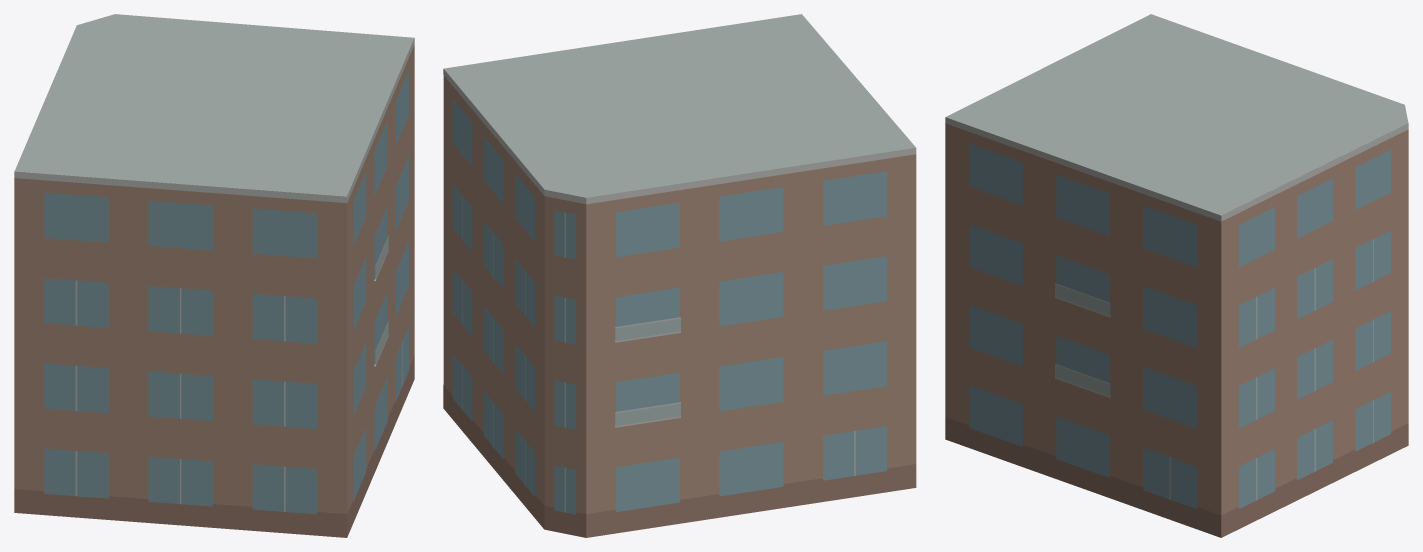
File: survey-upis-32703266.glb
3 renders of one model, left to right at view 1: azimuth 30°, elevation 25°; view 2: azimuth 150°, elevation 25°; view 3: azimuth 270°, elevation 25°, orthographic. The views are drawn at different scales.
Parts seen in each view (by area): view 1: survey-upis-32703266.tmp; view 2: survey-upis-32703266.tmp; view 3: survey-upis-32703266.tmp.
Part boxes in pixels (bbox=[...]): survey-upis-32703266.tmp: bbox=[14, 14, 414, 537]; survey-upis-32703266.tmp: bbox=[443, 14, 916, 537]; survey-upis-32703266.tmp: bbox=[945, 14, 1408, 537].
Bounding box in the file's own units: 17.31 × 12.9 × 16.81.
